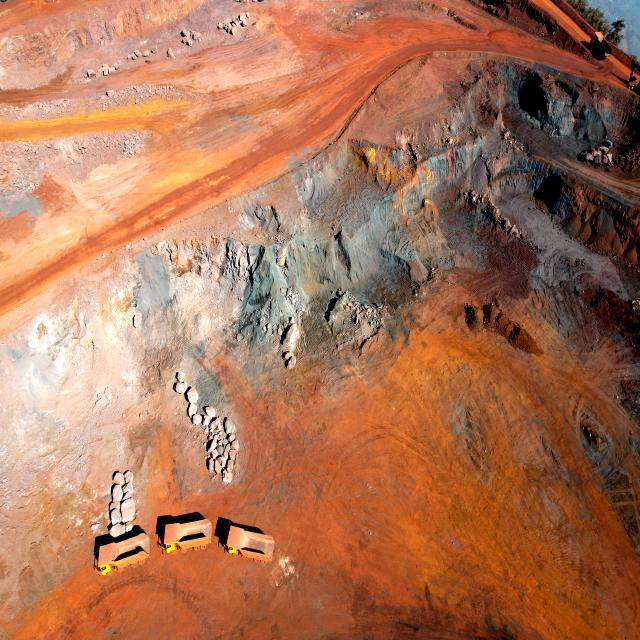Dumper truck: (98, 542, 150, 581), (162, 519, 212, 556), (224, 523, 268, 562), (590, 29, 612, 58)
Excavator: (630, 58, 640, 82)
person: (631, 85, 634, 91), (628, 84, 630, 90)
